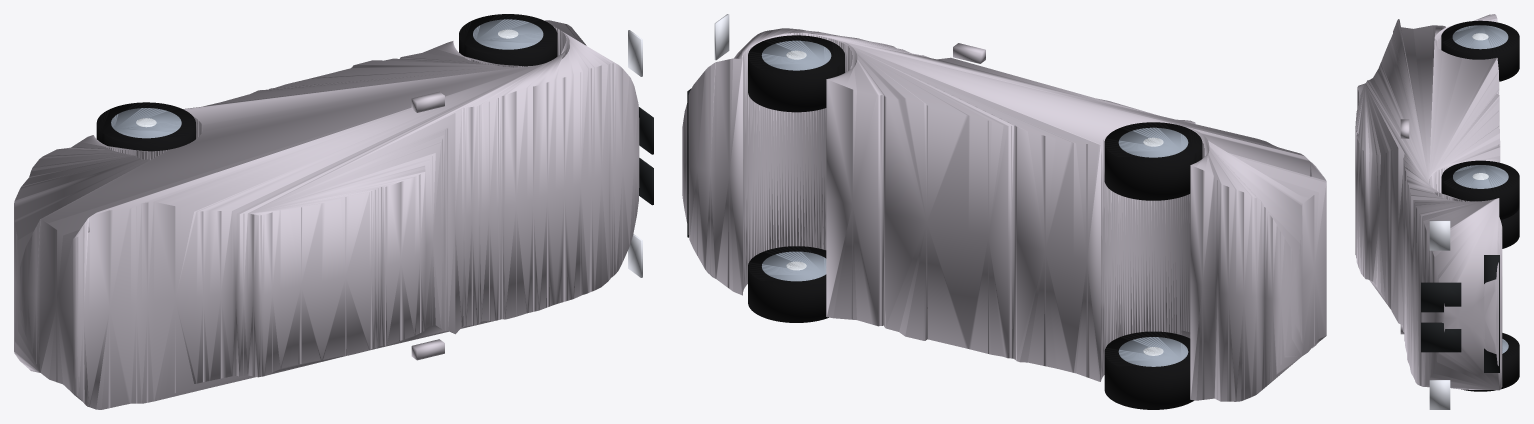
The model's file is BMW_M4_G82.obj.
The picture shows the model from 3 angles, left to right: view 1: azimuth 30°, elevation 25°; view 2: azimuth 150°, elevation 25°; view 3: azimuth 270°, elevation 25°; orthographic projection. The views are drawn at different scales.
Parts seen in each view (by area): view 1: Body, TyreFR, TyreRR, RimFR, RimRR, GrilleR, LampR, GrilleL; view 2: Body, TyreRR, TyreRL, TyreFR, TyreFL, RimFR, RimRR, RimRL, RimFL, LampR; view 3: Body, TyreFR, TyreRR, GrilleR, GrilleL, RimRR, RimFR, TyreFL, IntakeTrim, LampR, LampL, TyreRL (+1 smaller).
Boxes of the visible parts, left/top/right/bottom form: Body: left=14, top=20, right=639, bottom=409; TyreFR: left=459, top=14, right=557, bottom=66; TyreRR: left=96, top=102, right=195, bottom=151; RimFR: left=473, top=19, right=543, bottom=49; RimRR: left=111, top=108, right=181, bottom=138; GrilleR: left=639, top=107, right=653, bottom=154; LampR: left=628, top=30, right=642, bottom=76; GrilleL: left=639, top=158, right=653, bottom=205; Body: left=682, top=28, right=1326, bottom=401; TyreRR: left=1104, top=122, right=1202, bottom=200; TyreRL: left=1104, top=331, right=1194, bottom=409; TyreFR: left=748, top=35, right=844, bottom=112; TyreFL: left=748, top=246, right=828, bottom=322; RimFR: left=761, top=40, right=831, bottom=70; RimRR: left=1118, top=127, right=1188, bottom=157; RimRL: left=1118, top=337, right=1188, bottom=366; RimFL: left=762, top=251, right=826, bottom=281; LampR: left=714, top=14, right=729, bottom=60; Body: left=1355, top=14, right=1502, bottom=390; TyreFR: left=1441, top=160, right=1519, bottom=219; TyreRR: left=1441, top=20, right=1519, bottom=81; GrilleR: left=1421, top=282, right=1461, bottom=312; GrilleL: left=1421, top=322, right=1461, bottom=352; RimRR: left=1452, top=25, right=1508, bottom=49; RimFR: left=1453, top=165, right=1508, bottom=188; TyreFL: left=1461, top=333, right=1519, bottom=391; IntakeTrim: left=1484, top=255, right=1499, bottom=372; LampR: left=1429, top=220, right=1450, bottom=250; LampL: left=1429, top=380, right=1450, bottom=409; TyreRL: left=1500, top=208, right=1519, bottom=248.
Bounding box in the file's own units: 4.79 × 1.95 × 1.42.
